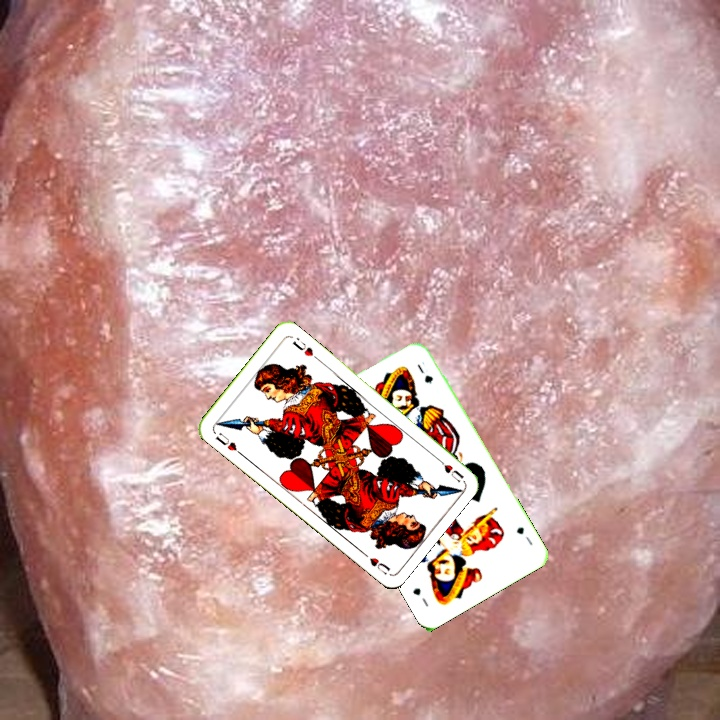GU: (512, 523, 535, 548)
HU: (432, 453, 466, 485), (211, 428, 244, 457)
